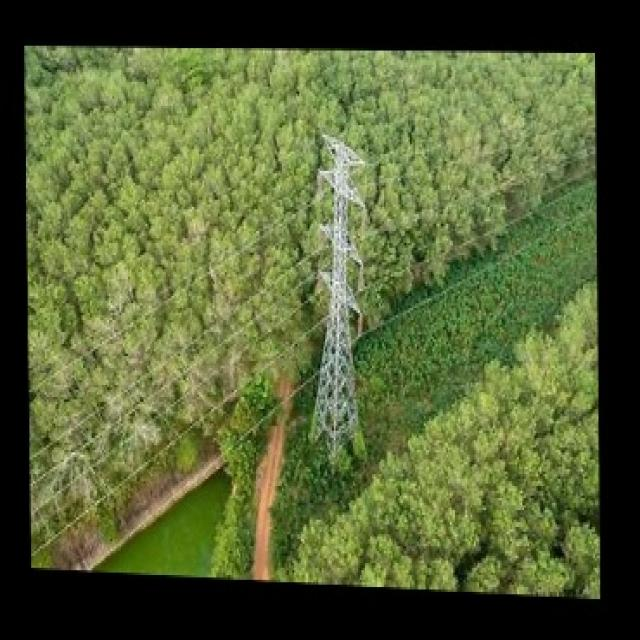utility poles: (300, 123, 389, 483)
